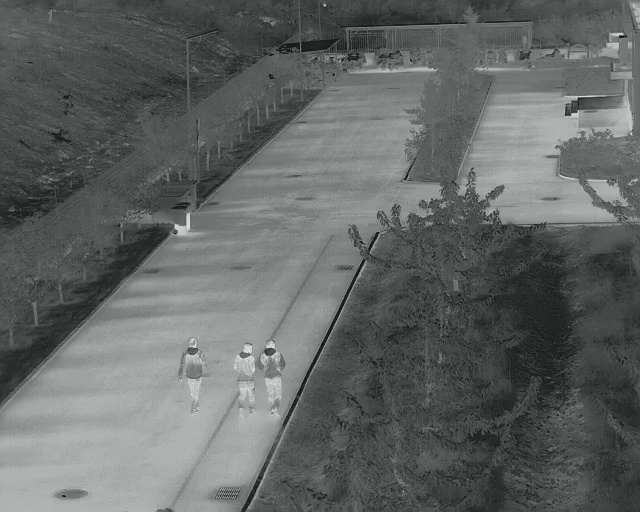person: (176, 337, 207, 415), (233, 339, 259, 416), (262, 336, 286, 416)
